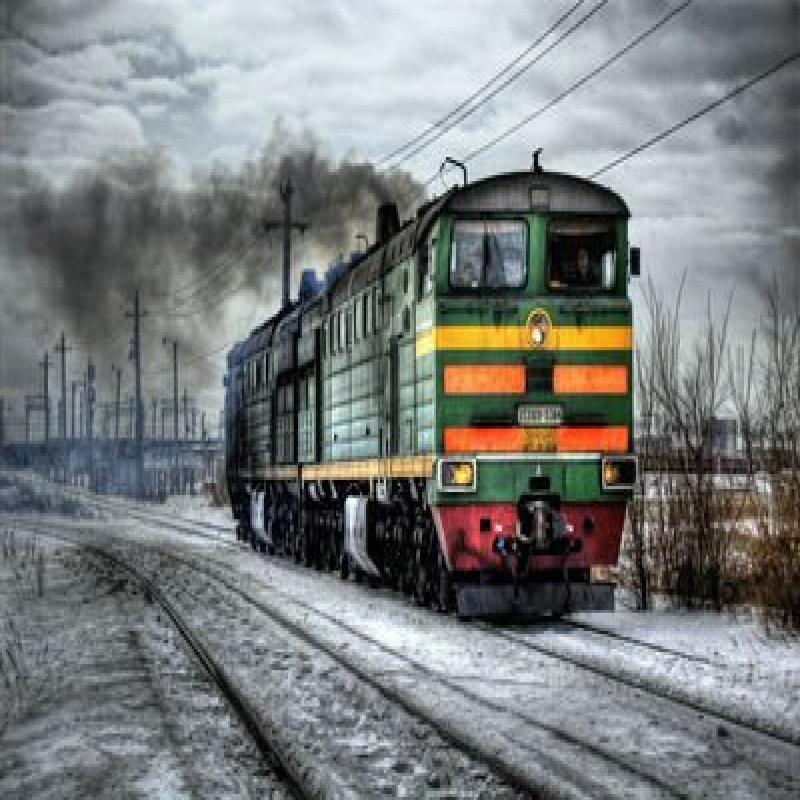train: (215, 149, 637, 635)
